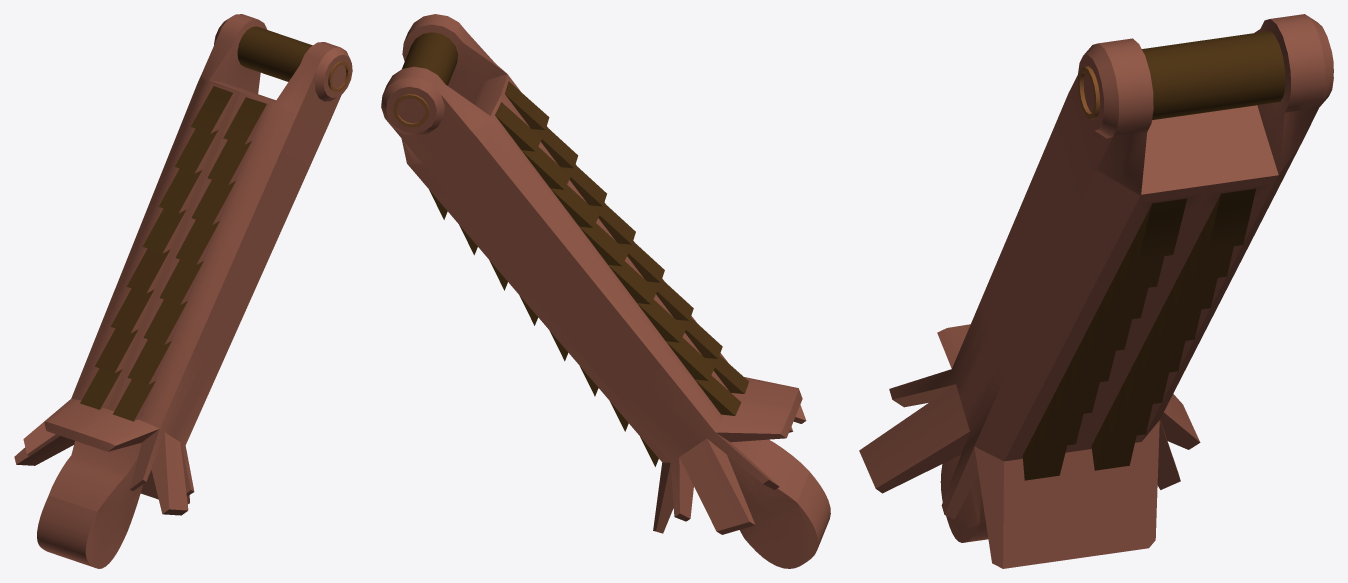
File: Spinnen Poot Deel 1.fbx
3 renders of one model, left to right at view 1: azimuth 30°, elevation 25°; view 2: azimuth 150°, elevation 25°; view 3: azimuth 270°, elevation 25°, orthographic. The views are drawn at different scales.
Parts seen in each view (by area): view 1: 1ste onderdeel been.006; view 2: 1ste onderdeel been.006; view 3: 1ste onderdeel been.006.
Part boxes in pixels (box(x1,y1,x2,y2)): 1ste onderdeel been.006: box(14, 14, 352, 568); 1ste onderdeel been.006: box(381, 14, 830, 568); 1ste onderdeel been.006: box(859, 14, 1333, 568).
Bounding box in the file's own units: 597 × 716 × 428.
